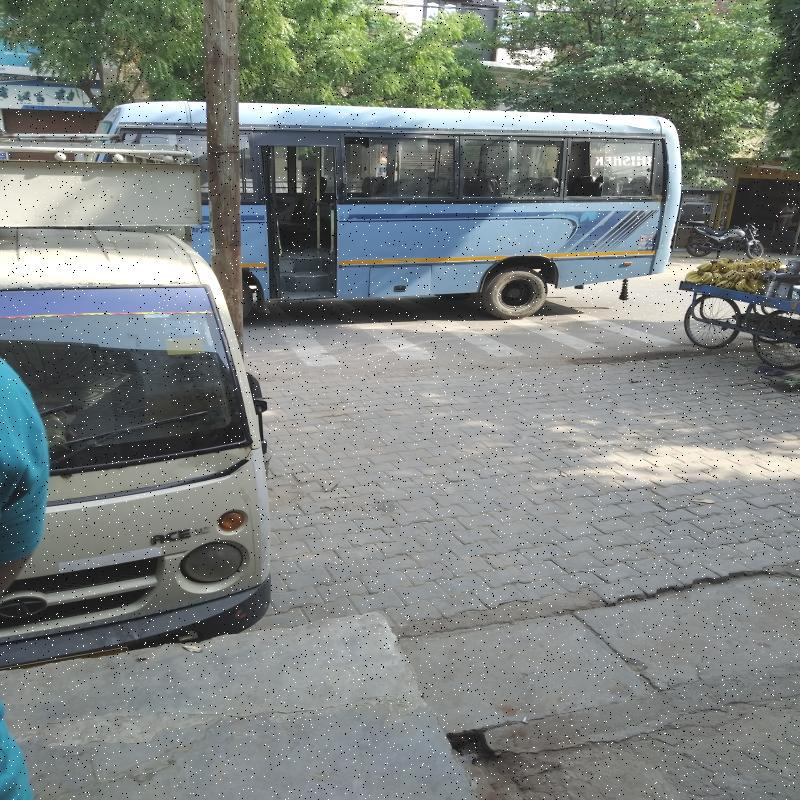bus: (111, 106, 684, 307)
